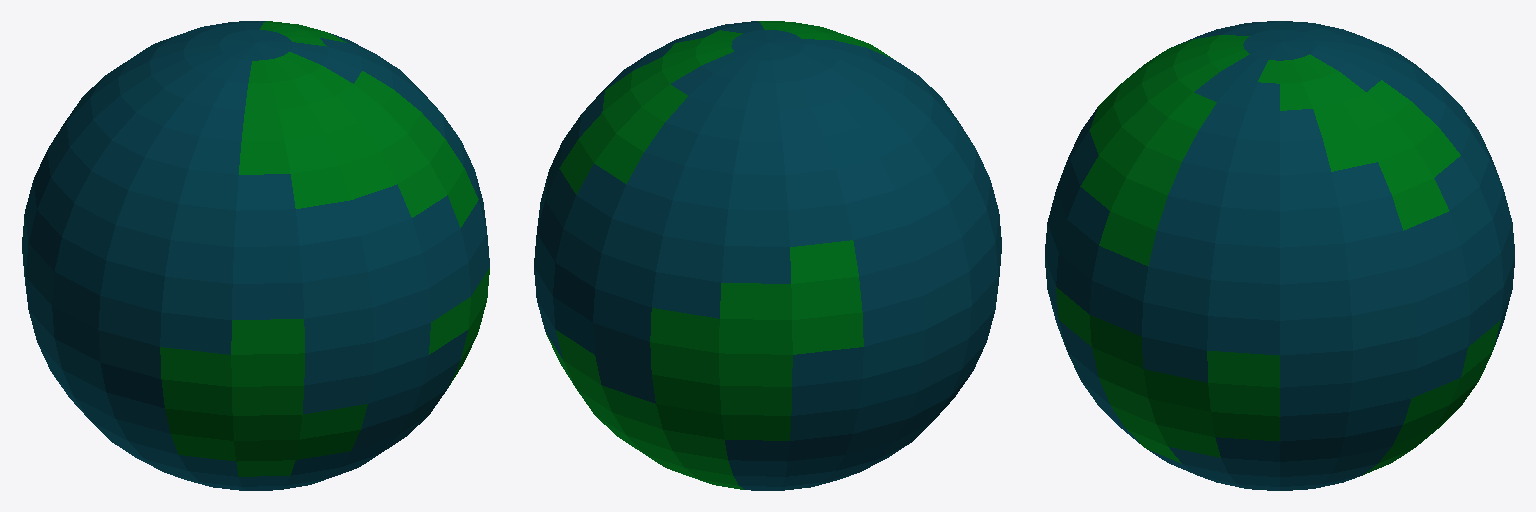
Rendered from Tierra.obj.
3 renders of one model, left to right at view 1: azimuth 30°, elevation 25°; view 2: azimuth 150°, elevation 25°; view 3: azimuth 270°, elevation 25°, orthographic.
Visible parts, largest first — view 1: pSphere11; view 2: pSphere11; view 3: pSphere11.
Part boxes in pixels (x1,y1,x2,y2): pSphere11: (22, 21, 489, 490); pSphere11: (534, 21, 1001, 490); pSphere11: (1045, 21, 1514, 490).
Size of the model in its own units: 10.92 by 10.92 by 10.92.